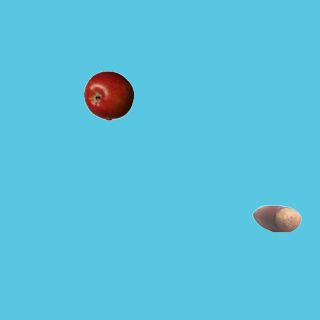Apple Braeburn: (83, 70, 133, 120)
Hazelnut: (251, 193, 301, 243)
